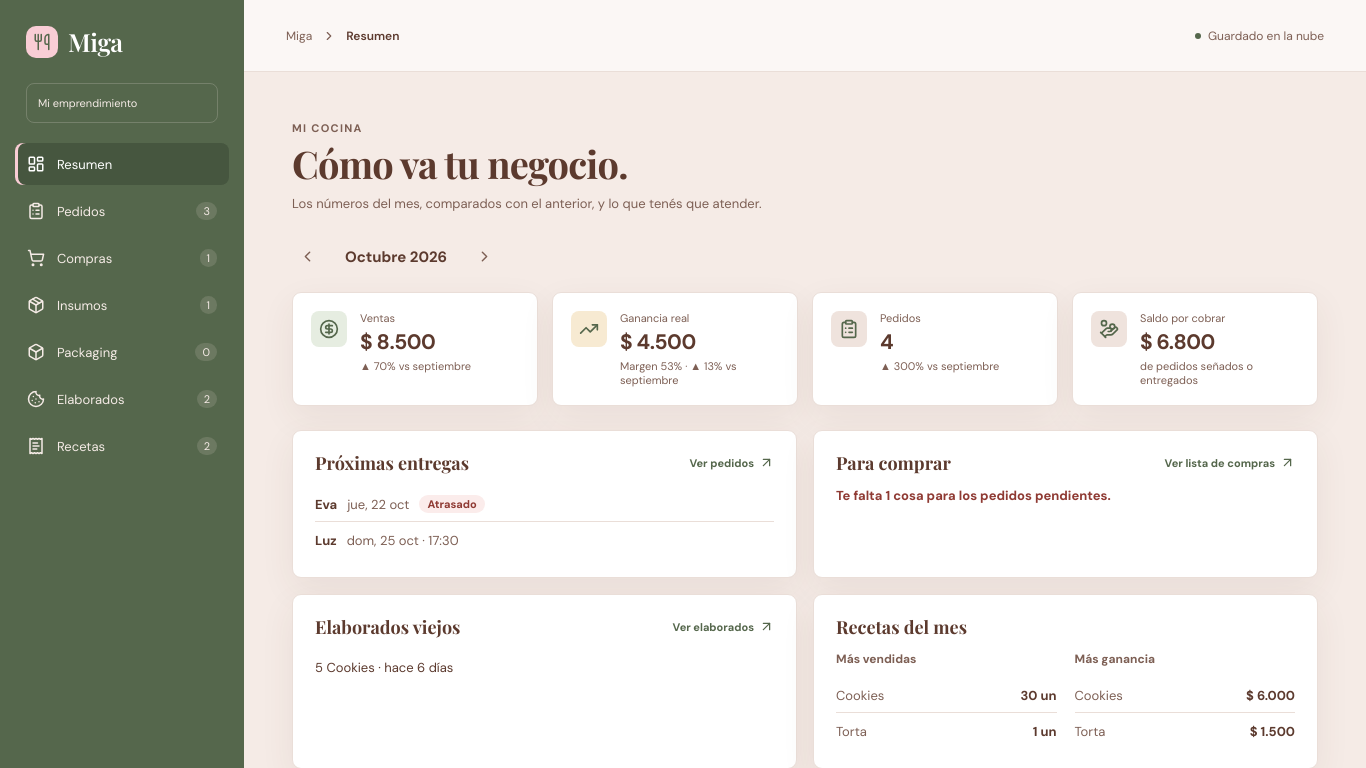
Dashboard › moves to other months
Step 1. Click the button named "Mes anterior" → (308, 257), box [292,241,323,272]
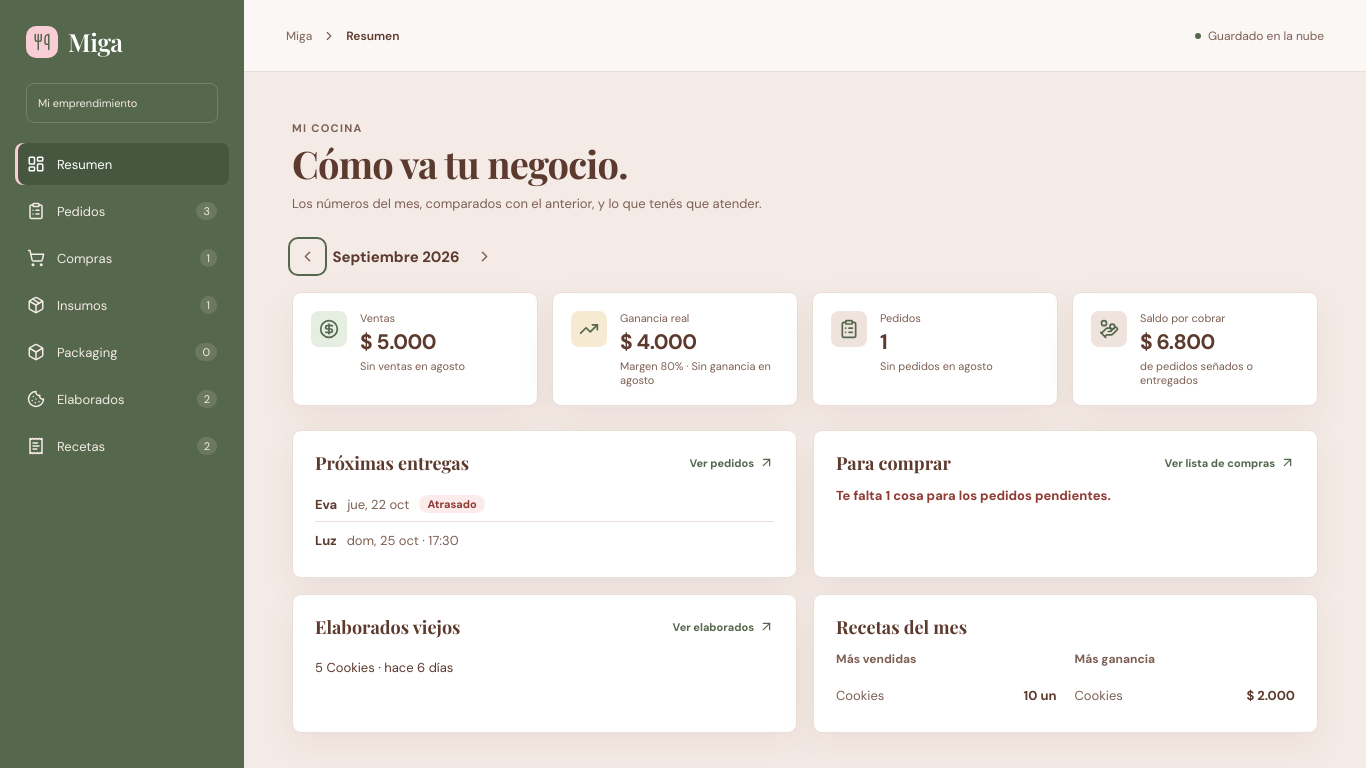
Now the text "Septiembre 2026" is shown, box [331,247,461,267]
Now the text "Ventas" shows "Sin ventas en agosto", box [360,359,465,373]
Step 2. Click the button named "Mes siguiente" → (484, 257), box [469,241,500,272]
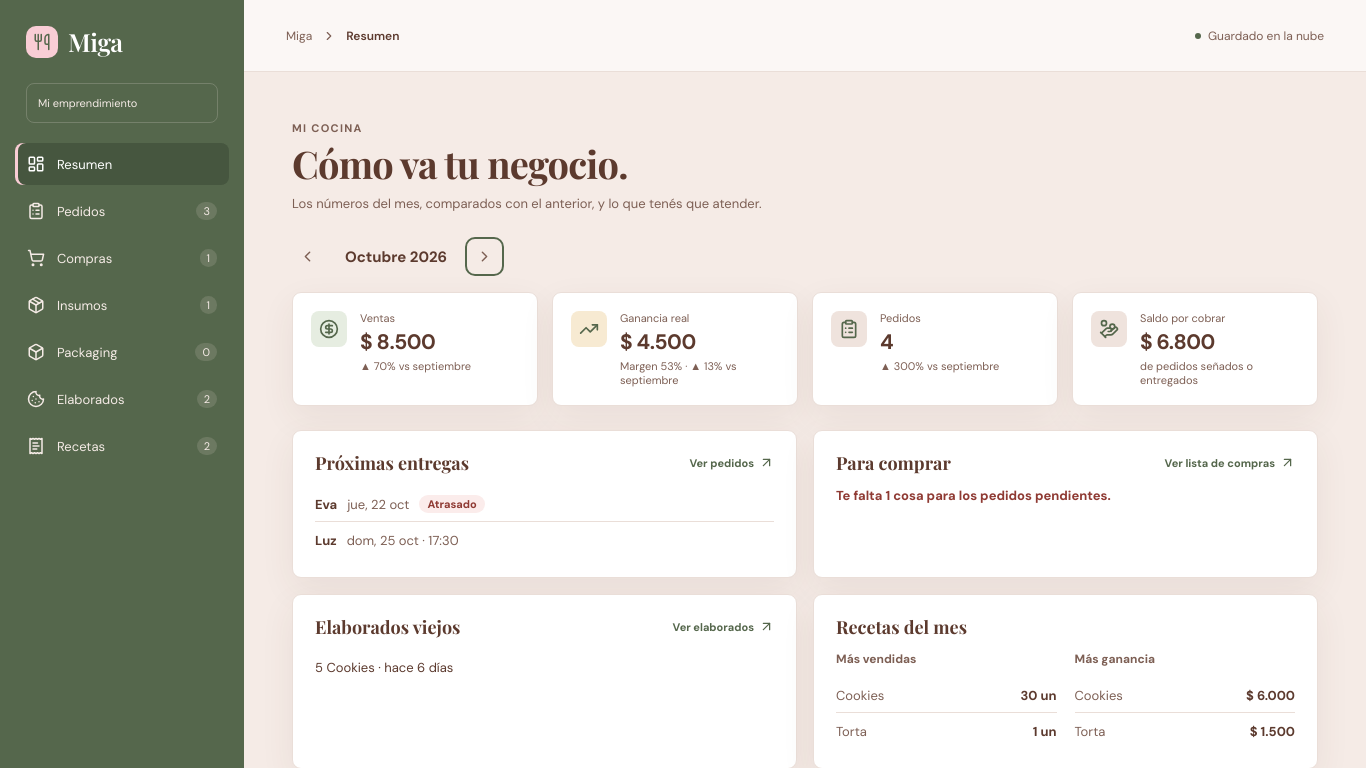
Step 3. Click the button named "Mes siguiente" → (484, 257), box [469,241,500,272]
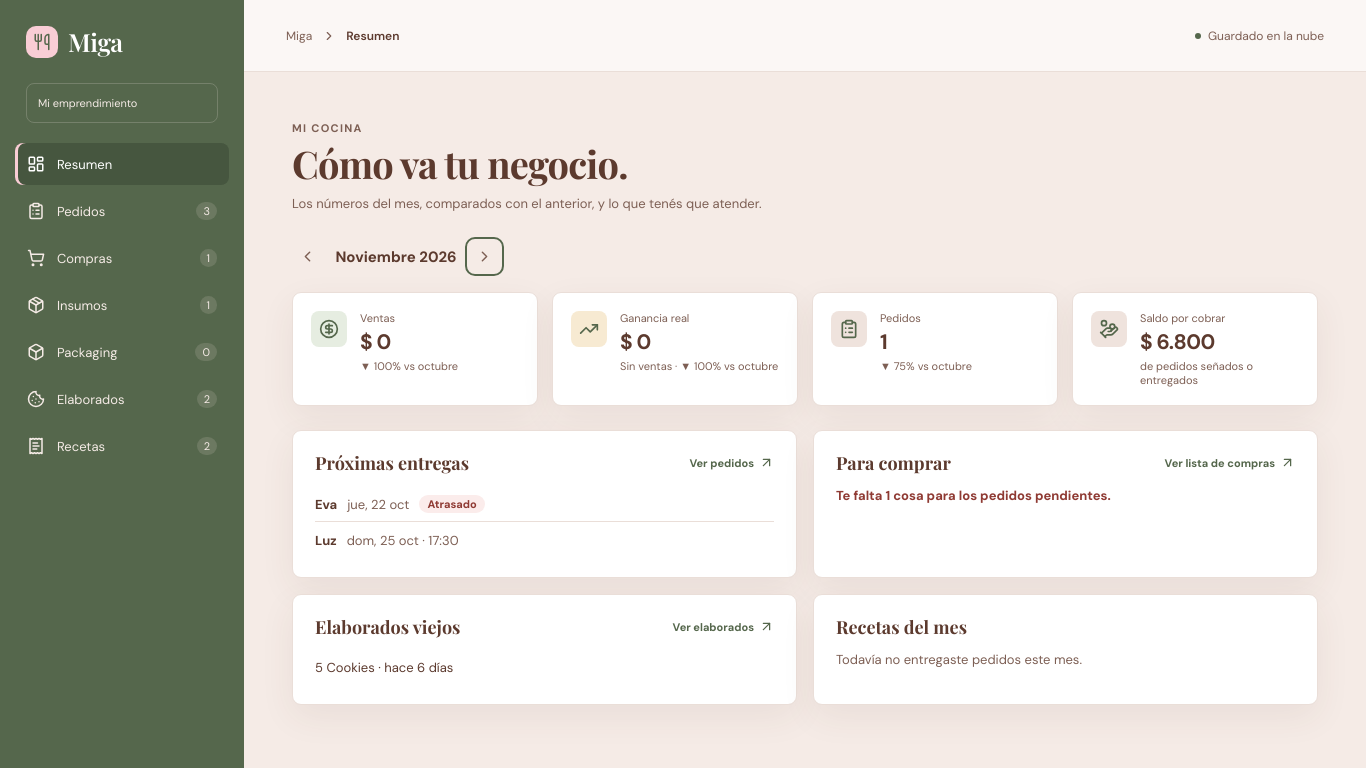
Now the text "Noviembre 2026" is shown, box [331,247,461,267]
Now the text "Ventas" shows "▼ 100% vs octubre", box [360,359,458,373]
